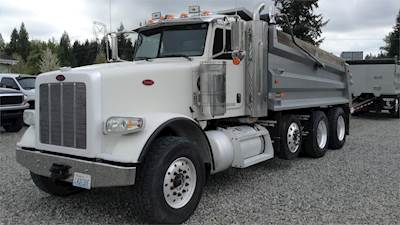truck: (16, 8, 352, 222)
